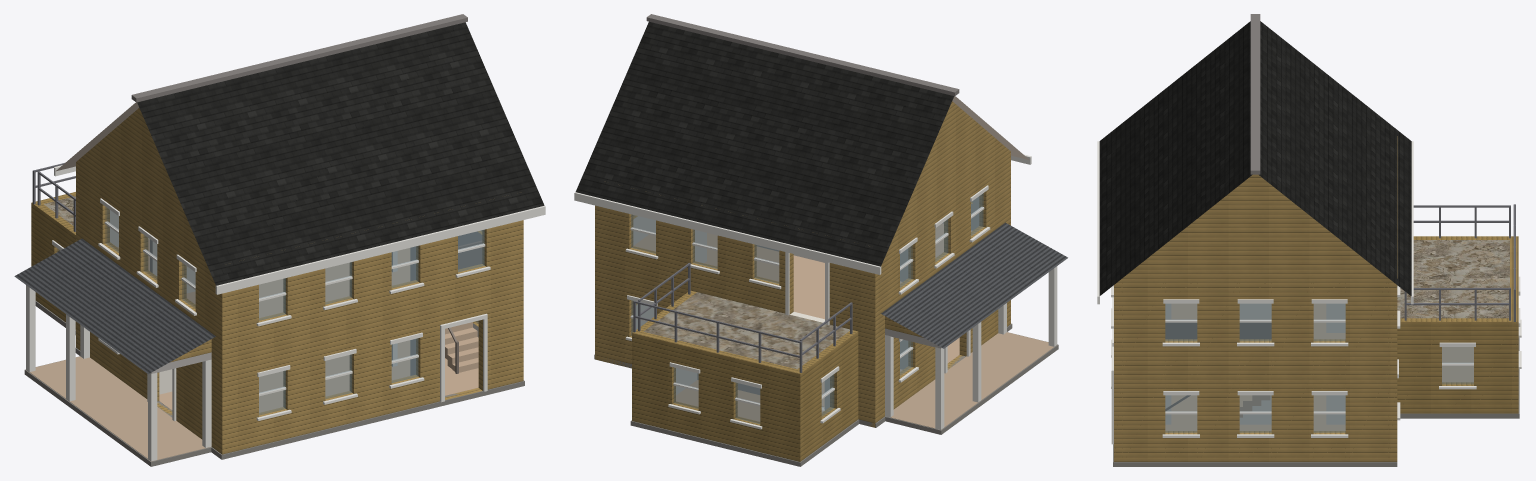
Rendered from mh-company-house.towns-v1.lod0.glb.
The picture shows the model from 3 angles, left to right: view 1: azimuth 30°, elevation 25°; view 2: azimuth 150°, elevation 25°; view 3: azimuth 270°, elevation 25°; orthographic projection. The views are drawn at different scales.
Visible parts, largest first — view 1: mh-company-house; view 2: mh-company-house; view 3: mh-company-house.
Part boxes in pixels (bbox=[...]): mh-company-house: bbox=[14, 14, 545, 466]; mh-company-house: bbox=[574, 14, 1067, 466]; mh-company-house: bbox=[1097, 14, 1521, 466].
Bounding box in the file's own units: 12.75 × 9.91 × 12.58.
Materials: 8 (4 with a texture image).
